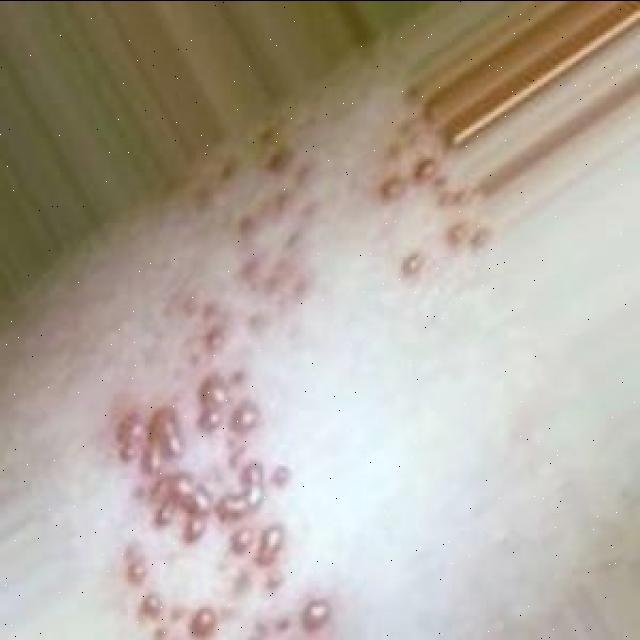Shingles: (109, 364, 334, 640), (168, 124, 313, 358), (371, 91, 492, 284)
